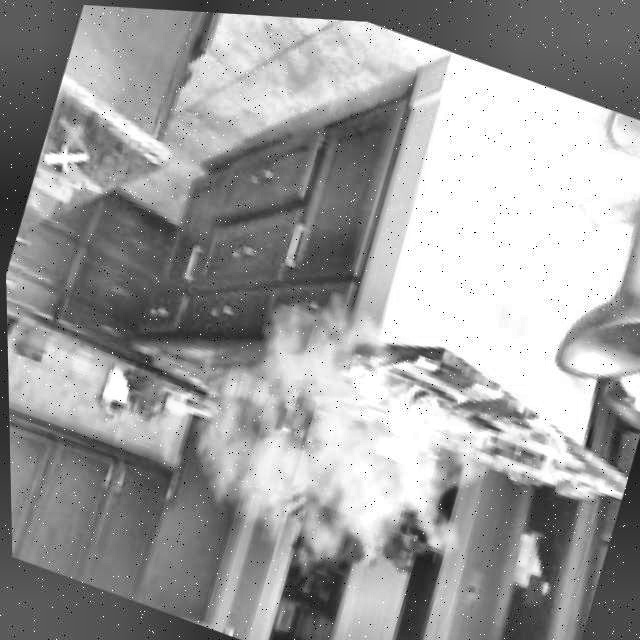Smoke: (157, 253, 526, 640)
